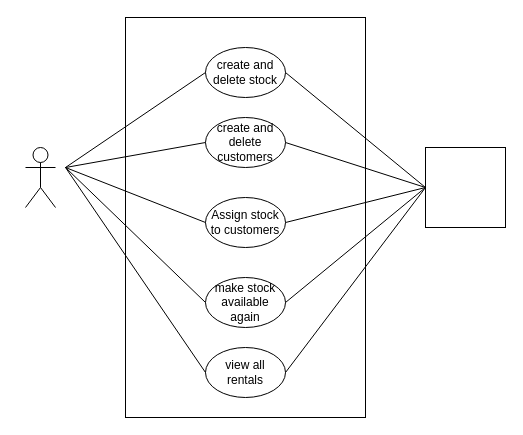
Image size: 523x435. Some labels were removed from this diagram. The shapes that lost their labels are listed below. From the top down, each one's centre as x and y in pixels, then its label:
At (x=40, y=177): "Manager".
At (x=465, y=187): "Rental Shop".
